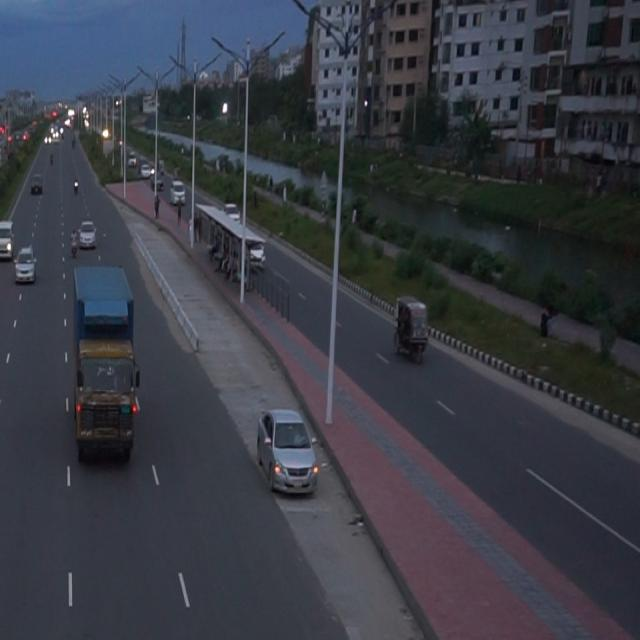van: (66, 243, 148, 487)
